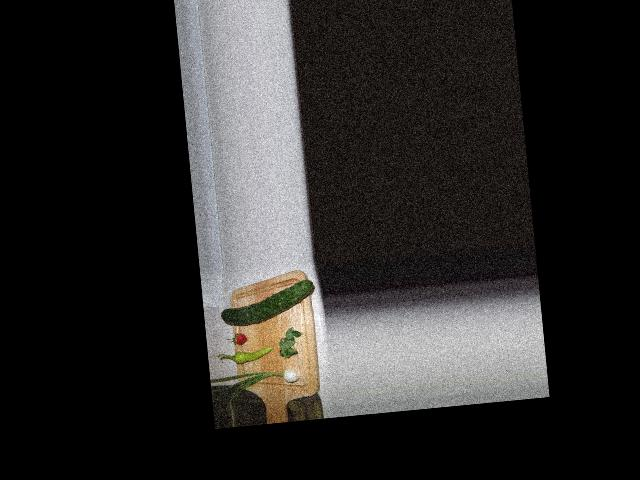cucumber: (219, 278, 316, 326)
